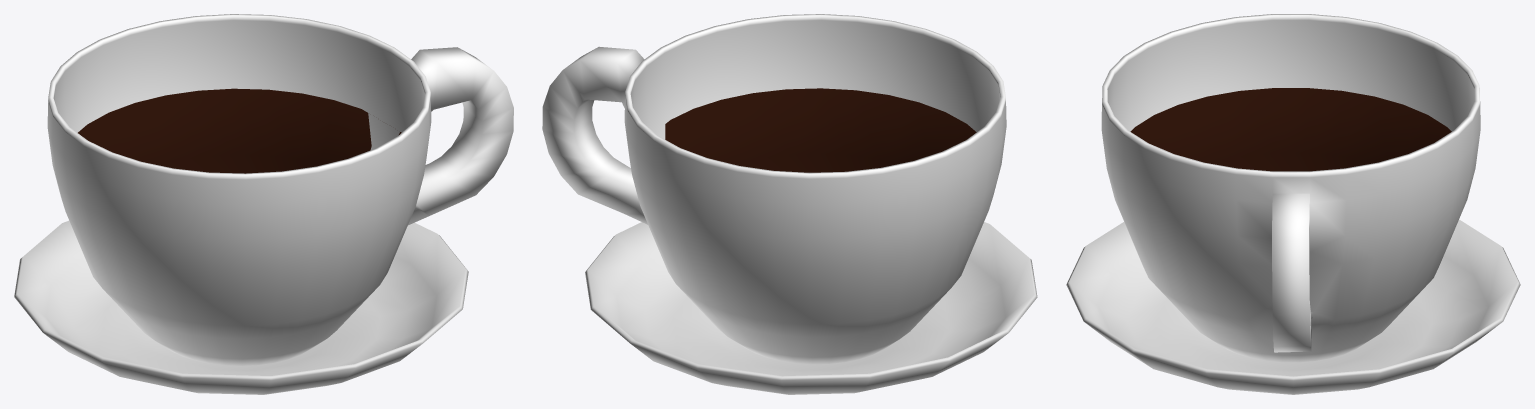
The model's file is coffe.gltf.
3 views of the same model, side by side, from view 1: azimuth 30°, elevation 25°; view 2: azimuth 150°, elevation 25°; view 3: azimuth 270°, elevation 25° (orthographic).
Parts seen in each view (by area): view 1: Cylinder, Circle, Cylinder.001; view 2: Cylinder, Circle, Cylinder.001; view 3: Cylinder, Circle, Cylinder.001.
Part boxes in pixels (x1,y1,x2,y2): Cylinder: (47,14,513,365); Circle: (14,220,468,394); Cylinder.001: (78,88,401,173); Cylinder: (542,14,1006,364); Circle: (585,222,1037,394); Cylinder.001: (665,88,976,172); Cylinder: (1101,14,1480,362); Circle: (1066,219,1520,394); Cylinder.001: (1130,88,1451,171).
Size of the model in its own units: 2.73 by 1.37 by 2.35.
